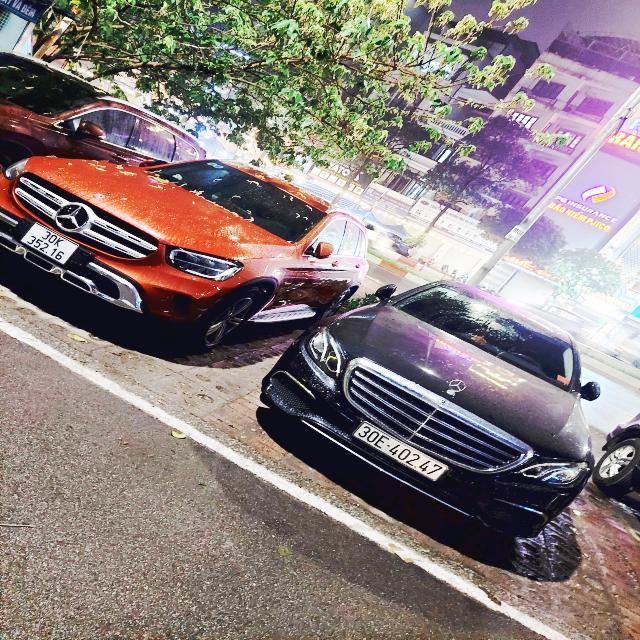license_plate: (351, 420, 451, 484)
